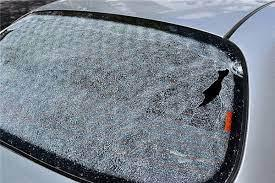Rear-windscreen-Damage: (131, 38, 255, 142)
